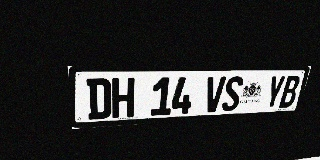1: (151, 77, 174, 116)
4: (171, 77, 194, 115)
B: (279, 75, 301, 108)
D: (86, 78, 111, 120)
H: (112, 78, 135, 118)
S: (221, 76, 244, 111)
V: (203, 76, 226, 113)
Y: (263, 76, 286, 109)
